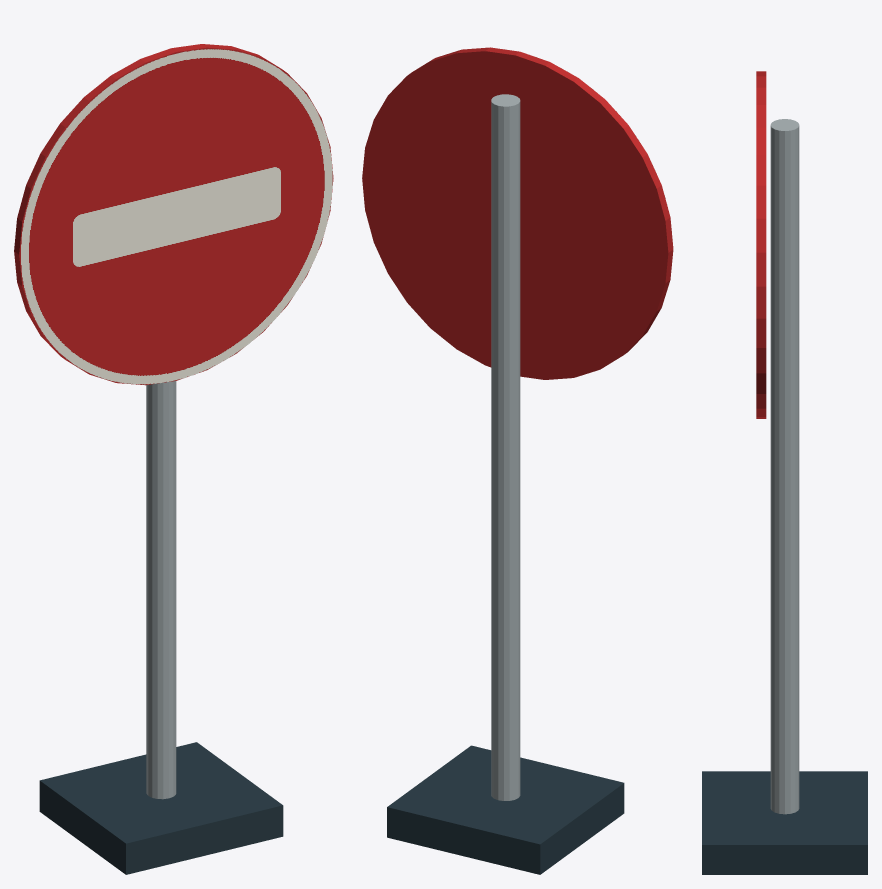
File: scendance-plan-no-entry.glb
3 views of the same model, side by side, from view 1: azimuth 30°, elevation 25°; view 2: azimuth 150°, elevation 25°; view 3: azimuth 270°, elevation 25° (orthographic). The views are drawn at different scales.
Bounding box in the file's own units: 0.84 × 2 × 0.4.
Materials: 4 (1 with a texture image).
